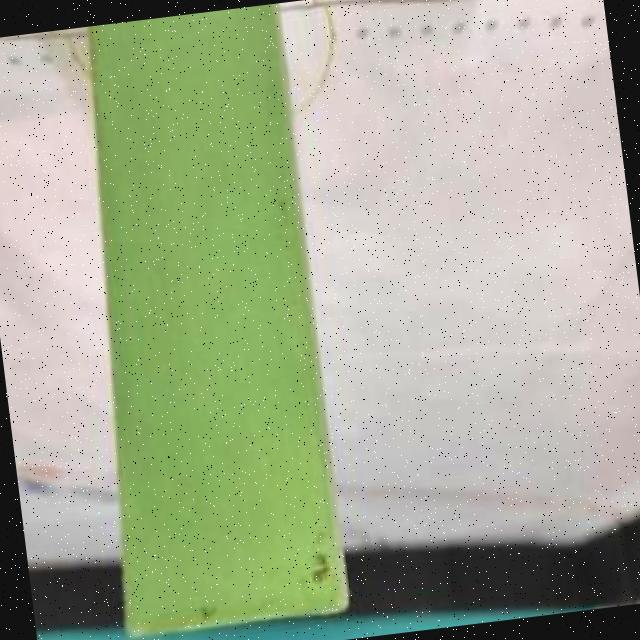greenbox: (52, 3, 354, 636)
